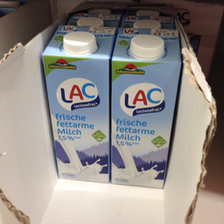milk: (43, 22, 115, 186), (110, 28, 182, 188)
